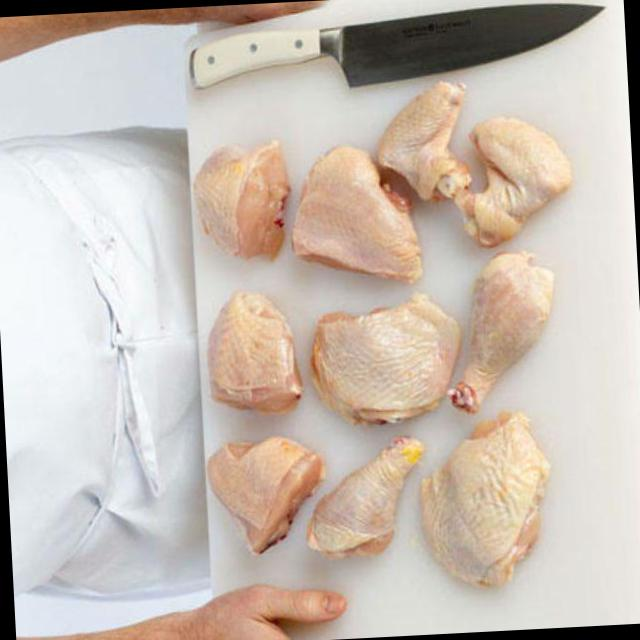chicken: (420, 408, 563, 598), (306, 295, 464, 425), (439, 252, 564, 412), (290, 138, 424, 286), (304, 439, 432, 561), (462, 110, 580, 242), (366, 75, 474, 212), (214, 431, 324, 557), (194, 136, 288, 263), (210, 288, 300, 414)
